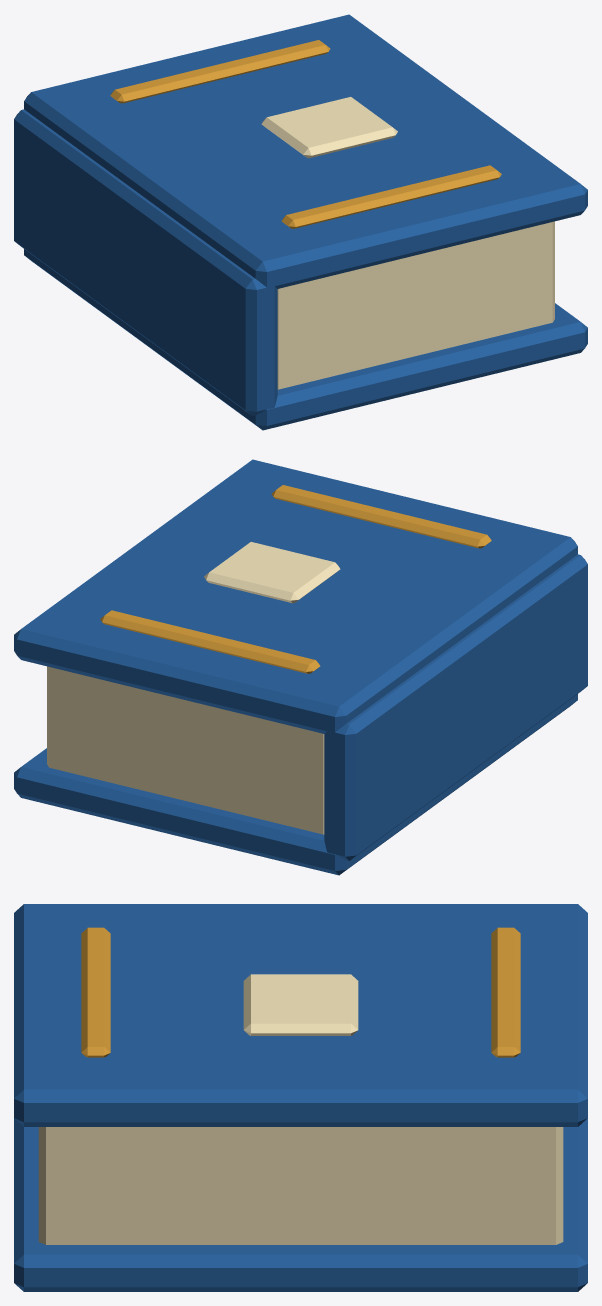
File: blue_book.glb
3 renders of one model, top to bottom at view 1: azimuth 30°, elevation 25°; view 2: azimuth 150°, elevation 25°; view 3: azimuth 270°, elevation 25°, orthographic. The views are drawn at different scales.
Parts seen in each view (by area): view 1: blue_book__body__azure, blue_book__body__linen, blue_book__body__brass; view 2: blue_book__body__azure, blue_book__body__linen, blue_book__body__brass; view 3: blue_book__body__azure, blue_book__body__linen, blue_book__body__brass.
Boxes of the visible parts, x1=… form: blue_book__body__azure: x1=14, y1=14, x2=587, y2=430; blue_book__body__linen: x1=261, y1=97, x2=554, y2=389; blue_book__body__brass: x1=110, y1=40, x2=501, y2=228; blue_book__body__azure: x1=14, y1=459, x2=587, y2=875; blue_book__body__linen: x1=47, y1=542, x2=340, y2=834; blue_book__body__brass: x1=100, y1=485, x2=491, y2=673; blue_book__body__azure: x1=14, y1=904, x2=587, y2=1291; blue_book__body__linen: x1=38, y1=974, x2=563, y2=1244; blue_book__body__brass: x1=81, y1=927, x2=520, y2=1057.
Bounding box in the file's own units: 0.2885 × 0.144 × 0.35.
